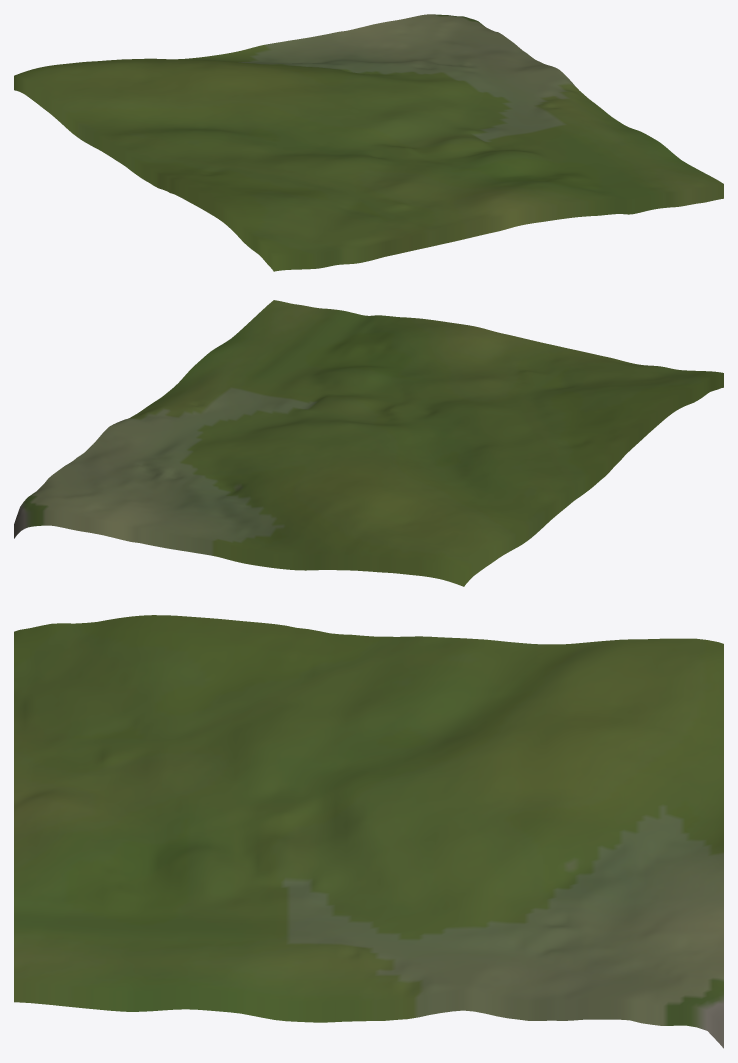
Rendered from terrain_9_-23.glb.
3 views of the same model, one above another, from view 1: azimuth 30°, elevation 25°; view 2: azimuth 150°, elevation 25°; view 3: azimuth 270°, elevation 25° (orthographic). The views are drawn at different scales.
Parts seen in each view (by area): view 1: terrain_9_-23; view 2: terrain_9_-23; view 3: terrain_9_-23.
Part boxes in pixels (x1,y1,x2,y2): terrain_9_-23: (14, 14, 723, 271); terrain_9_-23: (14, 300, 723, 586); terrain_9_-23: (14, 615, 723, 1048).
Size of the model in its own units: 256 by 53.19 by 256.
